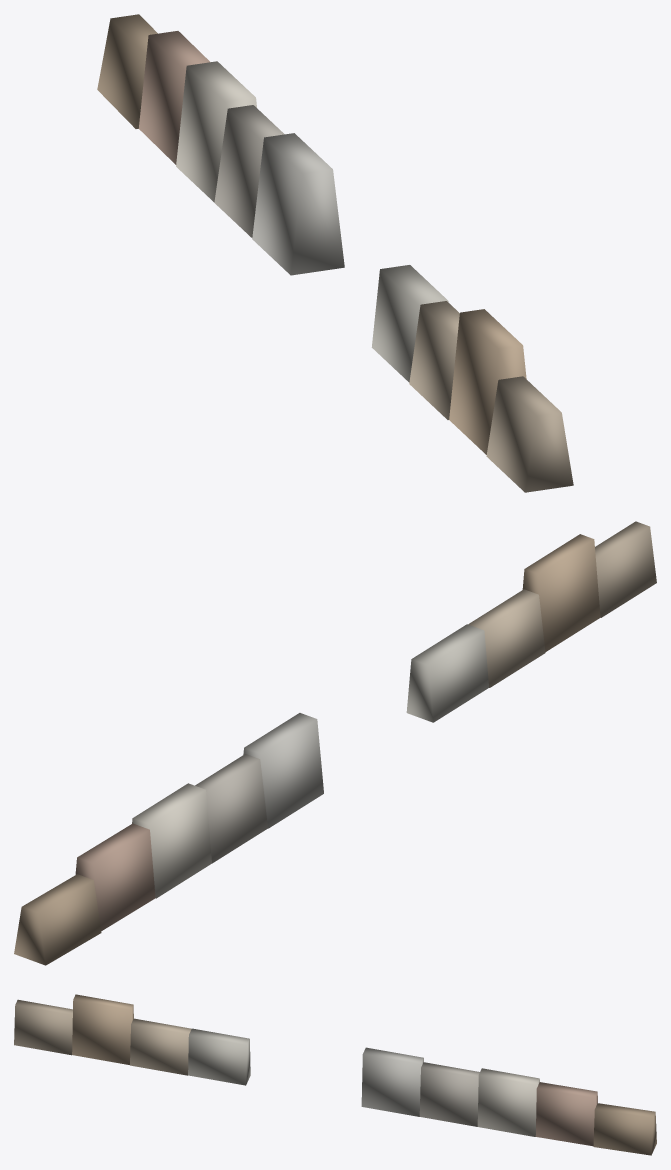
File: farm_-49_-37_collision.glb
The picture shows the model from 3 angles, top to bottom: view 1: azimuth 30°, elevation 25°; view 2: azimuth 150°, elevation 25°; view 3: azimuth 270°, elevation 25°; orthographic projection. The views are drawn at different scales.
Parts seen in each view (by area): view 1: geometry_0; view 2: geometry_0; view 3: geometry_0.
Part boxes in pixels (x1,y1,x2,y2): geometry_0: (97, 14, 573, 492); geometry_0: (14, 521, 656, 965); geometry_0: (14, 994, 656, 1155).
Size of the model in its own units: 3.73 by 2.89 by 15.99.
